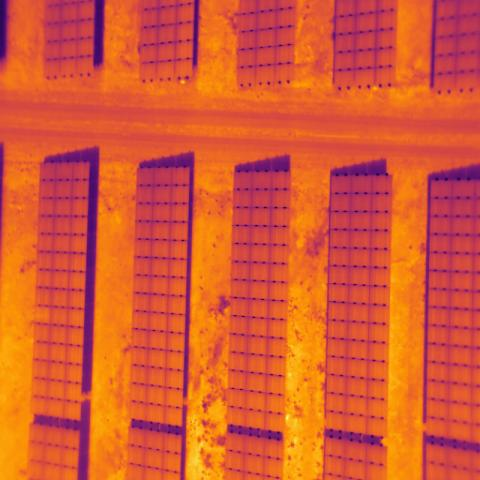fault: (36, 305, 52, 325)
